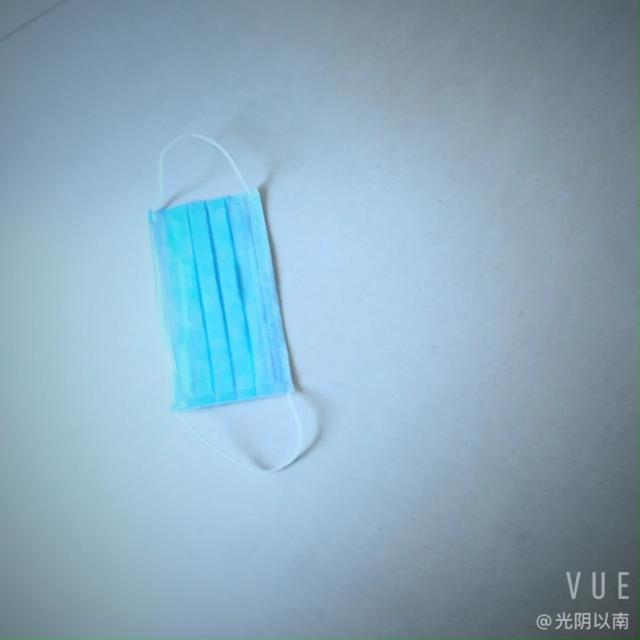non-organic waste: (139, 166, 318, 422)
